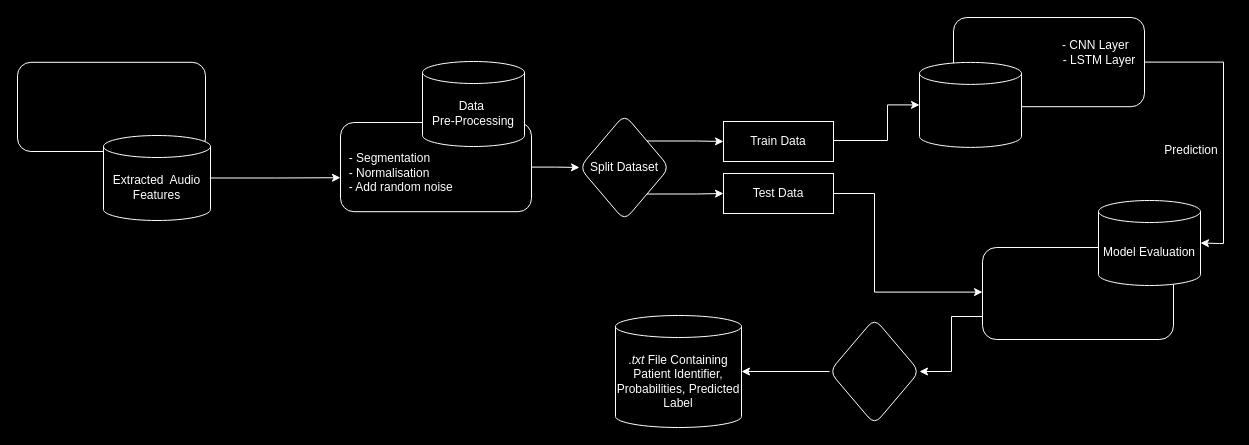
Image size: 1249x445. Some labels were removed from this diagram. The shapes that lost their labels are listed below. From the top down, each one's centre as x and y in pixels, then its label:
At (111,106): "- in . csv format".
At (970,104): "Model Development".
At (1078,293): "- Majority Voting - Accuracy - Recall - Precision - F-score".
At (874,371): "Save Result".
